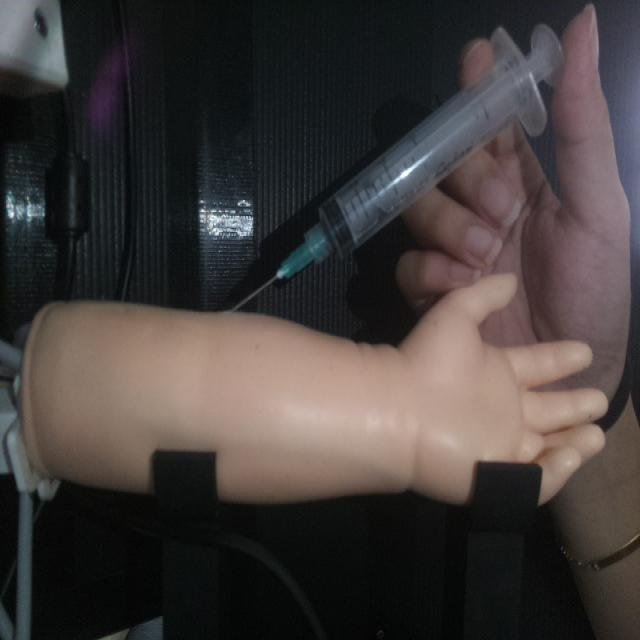Outside: (212, 13, 570, 315)
